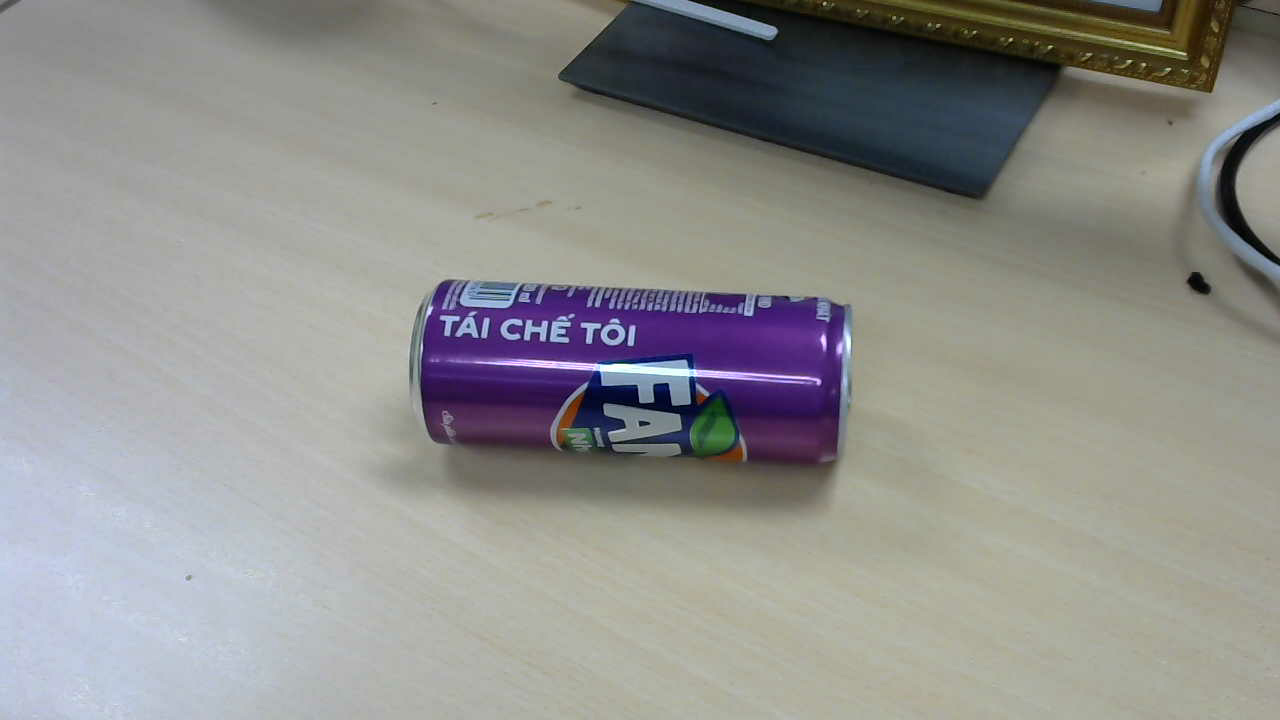Fanta: (416, 282, 856, 474)
